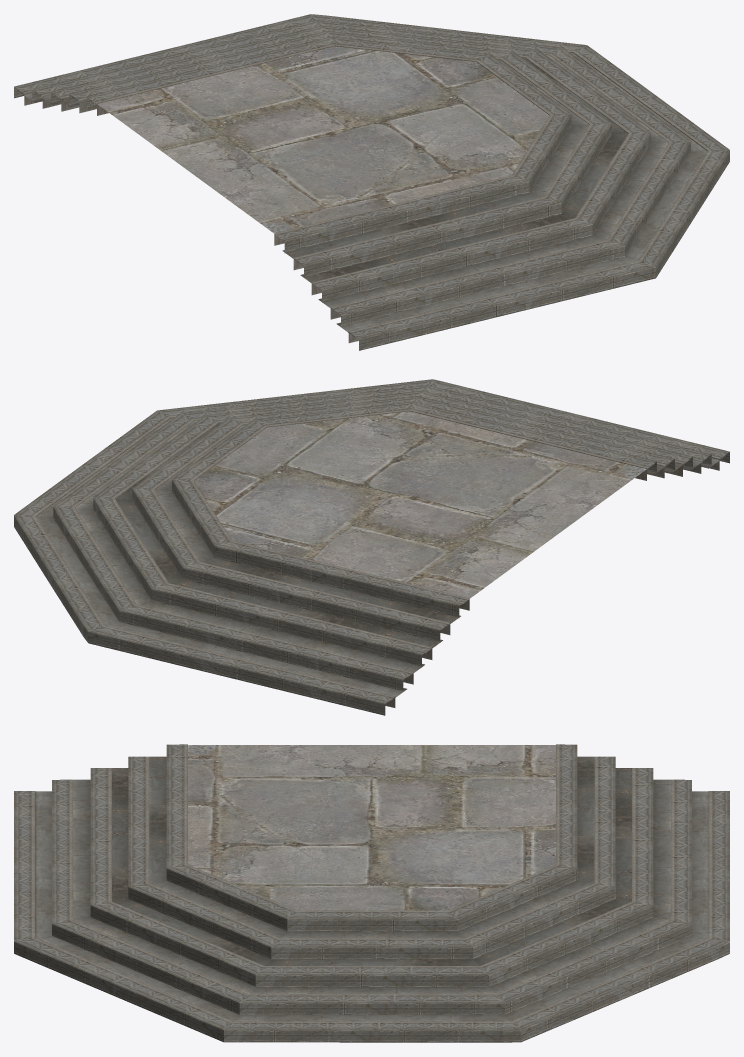
File: bg_lut_lucastle_castlestair02_sm_phs.FBX
3 renders of one model, top to bottom at view 1: azimuth 30°, elevation 25°; view 2: azimuth 150°, elevation 25°; view 3: azimuth 270°, elevation 25°, orthographic. The views are drawn at different scales.
Parts seen in each view (by area): view 1: bg_lut_lucastle_castlestair02_sm_phs; view 2: bg_lut_lucastle_castlestair02_sm_phs; view 3: bg_lut_lucastle_castlestair02_sm_phs.
Boxes of the visible parts, box(x1,y1,x2,y2) form: bg_lut_lucastle_castlestair02_sm_phs: box(14, 14, 729, 350); bg_lut_lucastle_castlestair02_sm_phs: box(14, 379, 729, 715); bg_lut_lucastle_castlestair02_sm_phs: box(14, 744, 729, 1042).
Size of the model in its own units: 878 by 99.84 by 1109.
